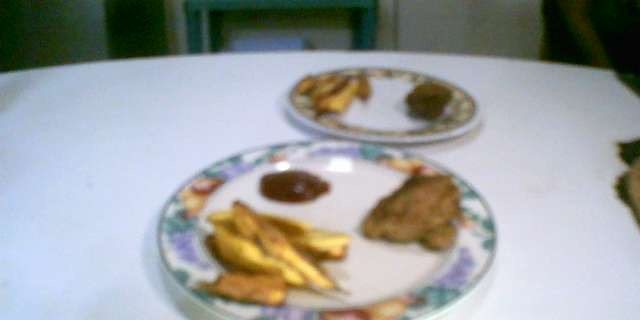chicken: (354, 169, 467, 254), (400, 71, 454, 121)
ketchup_portion: (255, 164, 333, 211)
potatoe_fries: (199, 186, 352, 310), (308, 62, 368, 118)
